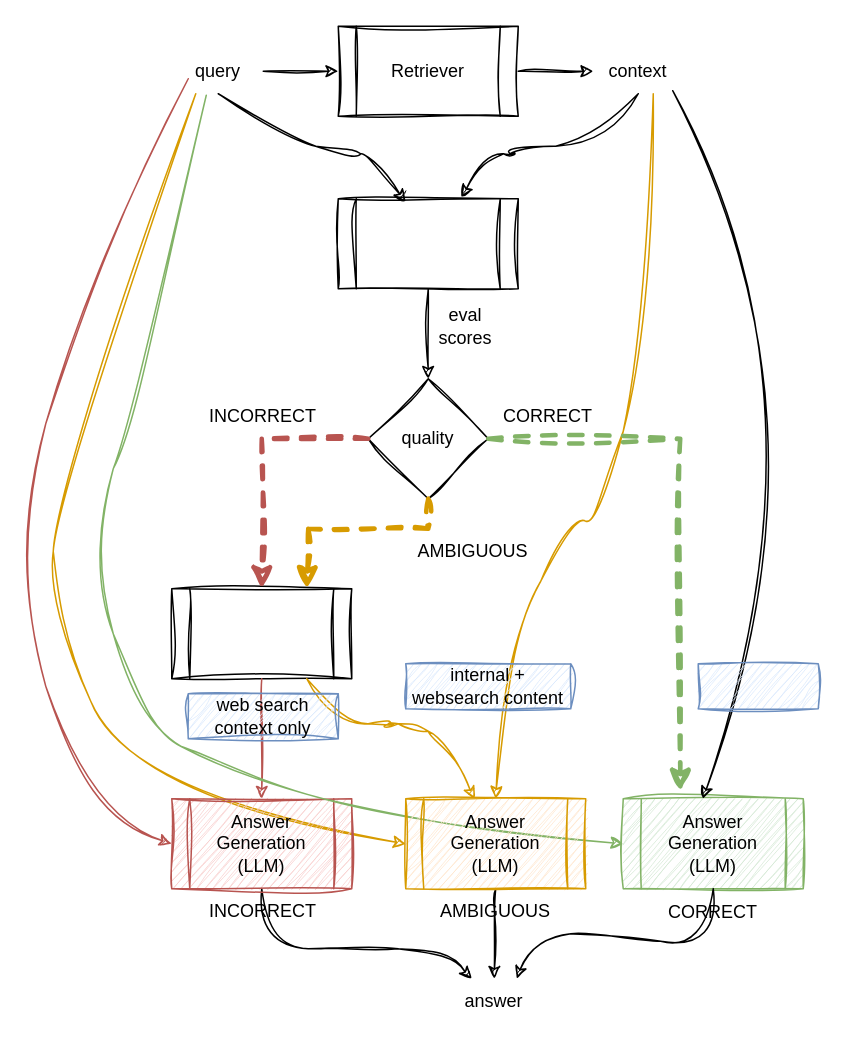
This 845x1050 diagram has some shape labels left out. The centre of each missing label's shape, as x and y in pixels:
"internal content only" belongs at point (757, 685).
"Question-Context Evaluation (LLM)" belongs at point (427, 243).
"Web Search" belongs at point (261, 633).
